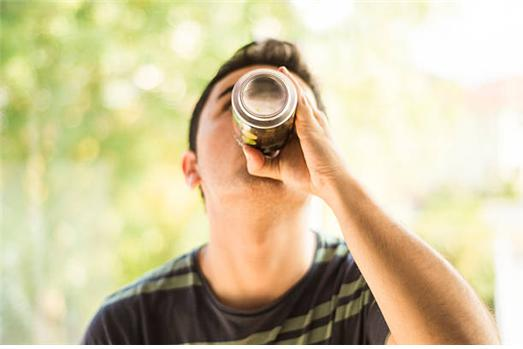alcohol: (230, 69, 298, 153)
